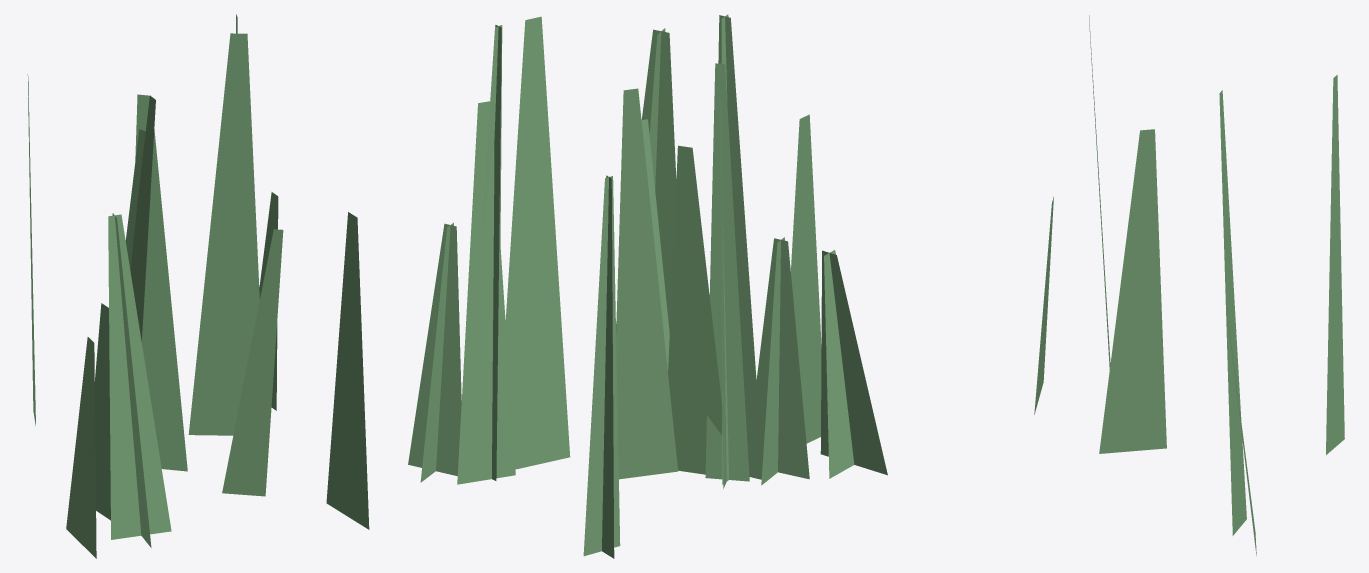
The model's file is pine_grass_cluster.glb.
3 views of the same model, side by side, from view 1: azimuth 30°, elevation 25°; view 2: azimuth 150°, elevation 25°; view 3: azimuth 270°, elevation 25° (orthographic). The views are drawn at different scales.
Parts seen in each view (by area): view 1: world; view 2: world; view 3: world.
Boxes of the visible parts, left/top/right/bottom form: world: left=27, top=14, right=369, bottom=558; world: left=408, top=14, right=887, bottom=558; world: left=1034, top=15, right=1344, bottom=555.
Bounding box in the file's own units: 0.5364 × 0.6119 × 0.5618.
